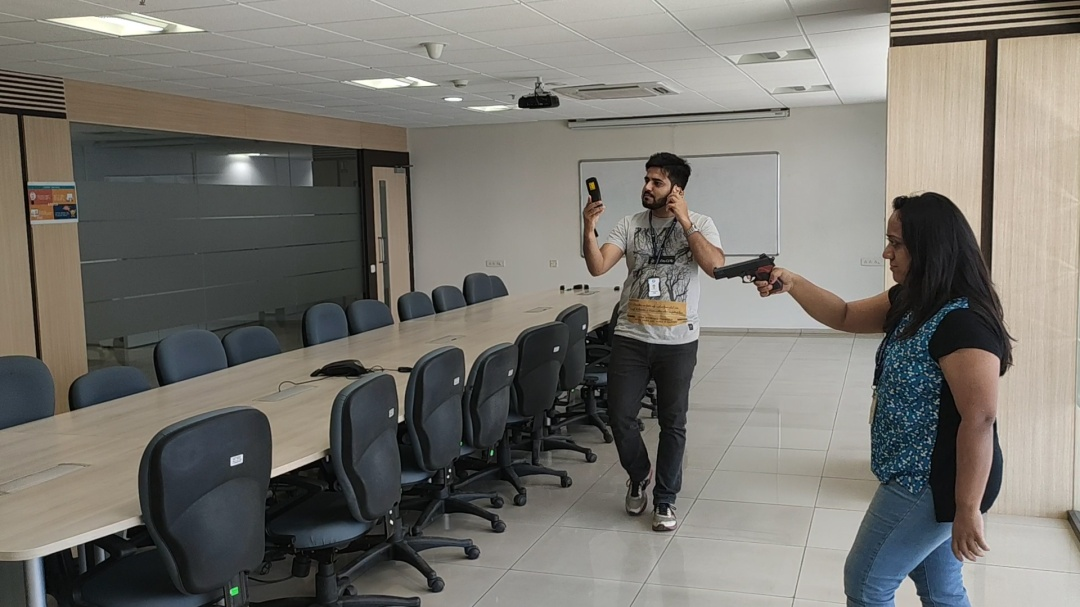gun: (713, 253, 785, 292)
